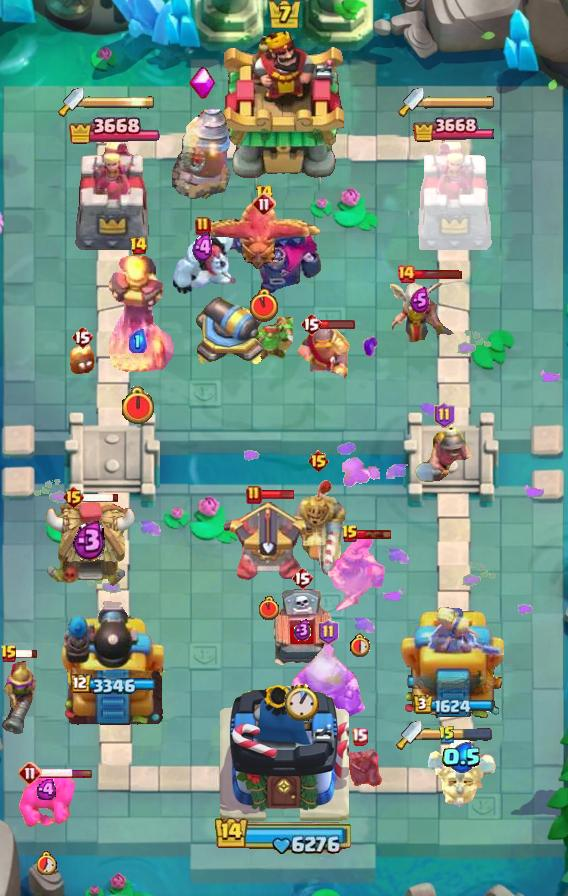bandit: (412, 419, 476, 483)
bar: (399, 607, 507, 731), (73, 140, 155, 256), (412, 140, 494, 256)
battle-ram: (334, 740, 384, 794)
bomb-tower: (0, 650, 42, 738)
bomber: (68, 344, 96, 376)
clock: (214, 815, 354, 855)
electro-dragon: (99, 253, 177, 379)
electro-spirit: (73, 519, 108, 561), (442, 742, 482, 773), (193, 233, 216, 264), (410, 287, 430, 313), (36, 779, 59, 800), (129, 329, 147, 353), (293, 619, 311, 641)
elixir: (120, 386, 156, 426), (285, 683, 319, 721), (250, 288, 278, 322), (350, 633, 372, 657), (259, 596, 279, 620), (37, 851, 57, 875)
elixir-golem-big: (328, 532, 394, 612)
elixir-golem-mid: (267, 588, 337, 674)
emote: (39, 768, 93, 779), (413, 269, 463, 280), (83, 493, 120, 504), (1, 649, 38, 660), (320, 318, 356, 329), (261, 488, 296, 499), (357, 528, 392, 539)
firecracker: (296, 323, 350, 379)
giant-snowball: (245, 317, 293, 365)
inferno-tower: (204, 218, 324, 296)
king-tower: (219, 678, 349, 826), (224, 29, 344, 181)
king-tower-bar: (84, 95, 156, 109), (424, 95, 496, 109), (422, 728, 492, 742)
lava-pup: (223, 500, 315, 582)
magic-archer: (172, 108, 232, 200)
mini-pekka: (424, 734, 500, 814)
mother-witch: (206, 196, 322, 272)
poison: (376, 275, 464, 349)
prince: (42, 499, 136, 589)
rage: (169, 227, 237, 297)
ram-rider: (289, 478, 347, 578)
royal-guardian: (290, 642, 366, 722)
royal-recruit: (194, 286, 266, 370)
selected: (68, 113, 160, 149), (414, 114, 495, 146), (70, 674, 157, 696), (414, 693, 495, 714)
skeleton-king-skill: (189, 67, 217, 101)
text: (252, 192, 276, 216), (18, 761, 42, 785), (306, 449, 329, 473), (63, 485, 86, 509), (433, 402, 454, 428), (318, 619, 339, 645), (300, 312, 322, 336), (71, 325, 93, 349), (291, 566, 313, 590), (396, 264, 416, 284), (255, 184, 274, 204), (129, 236, 148, 256), (341, 524, 359, 544), (0, 644, 18, 664), (438, 725, 456, 745), (351, 727, 369, 746), (195, 216, 211, 236), (246, 485, 262, 505)
tornado: (19, 769, 75, 829)
tower-bar: (58, 595, 170, 731)
